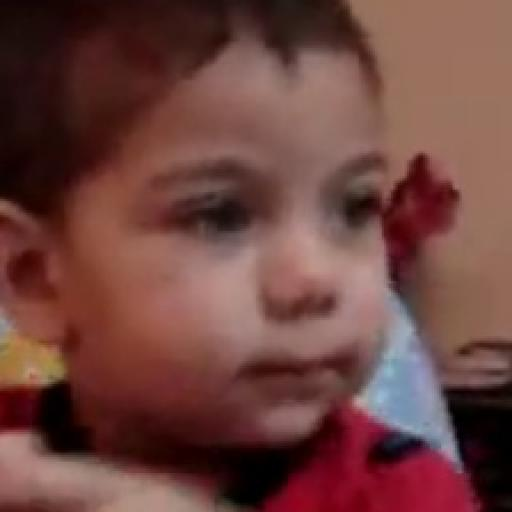Autism: (27, 52, 505, 512)
